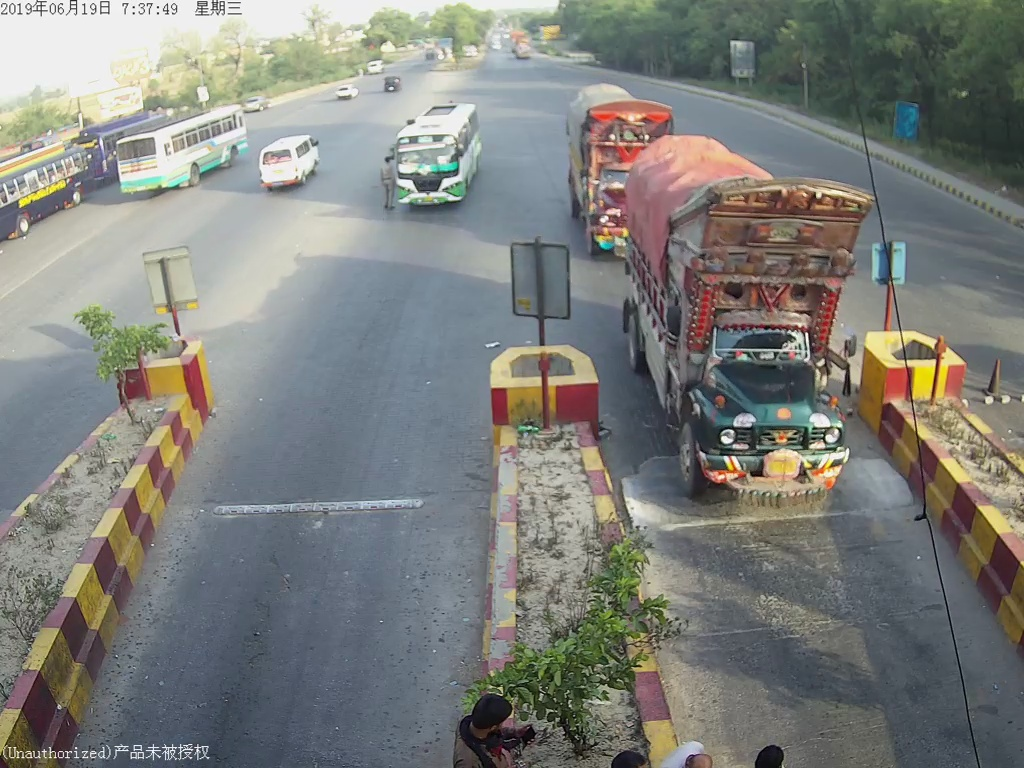Cat-3: (387, 96, 485, 209)
Cat-4: (624, 138, 853, 498), (566, 87, 668, 247)
